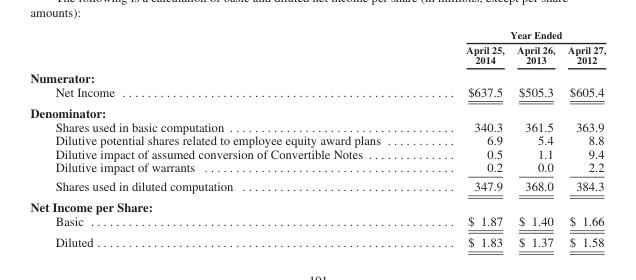table: (29, 28, 605, 248)
table column: (29, 28, 422, 248), (422, 28, 510, 248), (510, 28, 560, 248), (560, 28, 605, 248)
table column header: (29, 28, 605, 67)
table projected row header: (29, 101, 605, 119), (29, 67, 605, 84), (29, 196, 605, 213)
table row: (29, 42, 605, 67), (29, 176, 605, 196), (29, 101, 605, 119), (29, 213, 605, 231), (29, 67, 605, 84), (29, 84, 605, 101), (29, 196, 605, 213), (29, 231, 605, 248), (29, 160, 605, 176), (29, 28, 605, 42), (29, 119, 605, 133), (29, 146, 605, 160), (29, 133, 605, 146)
table spanning cell: (422, 28, 605, 42)
